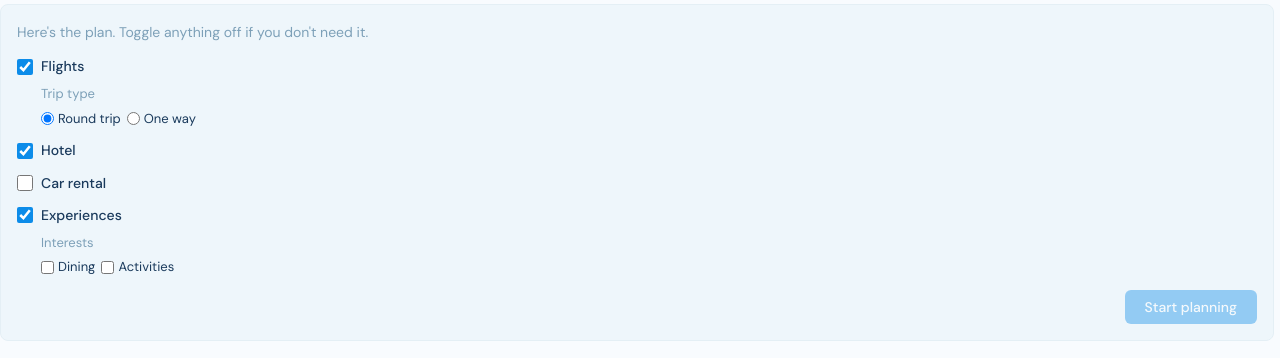
Test: TripPlanWidget › confirm button › is enabled after toggling a category (immediate interaction)
This screenshot has width=1280, height=358.
Click the checkbox labelled "Hotel" at (25,151), box [17,143,33,159]
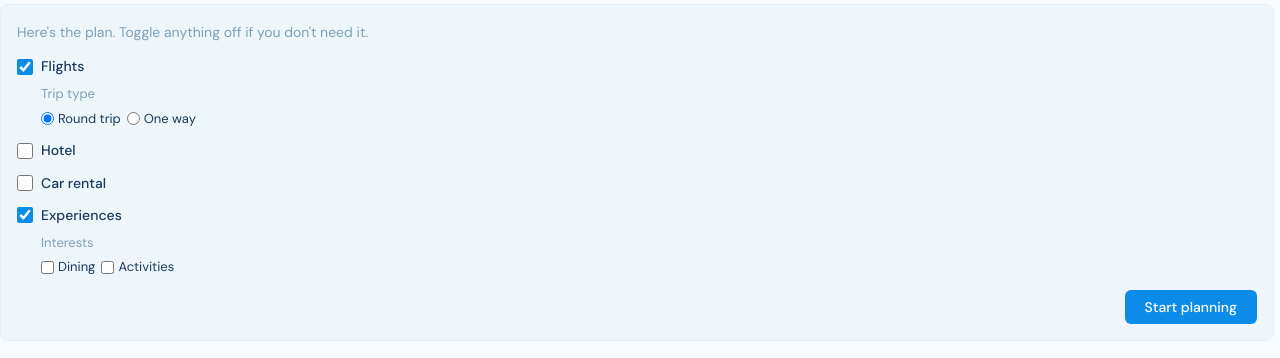
Check: the button "Start planning" is enabled, box [1125,290,1257,324]
